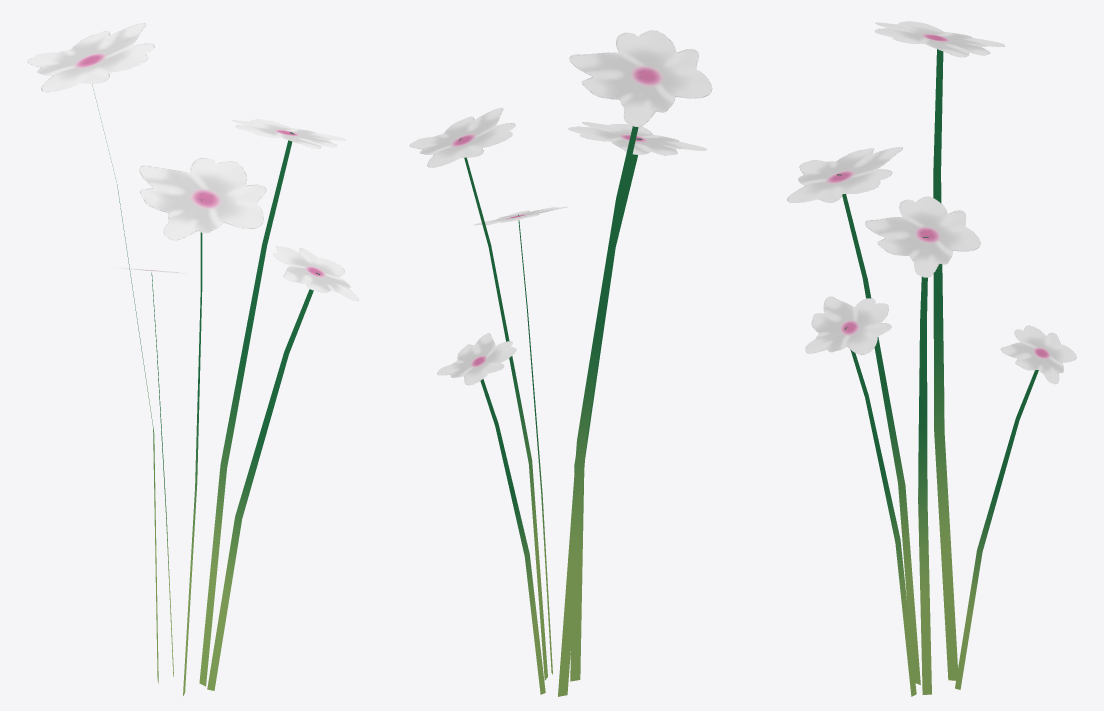
The model's file is SM_flowerpack_B_LOD1.FBX.
The picture shows the model from 3 angles, left to right: view 1: azimuth 30°, elevation 25°; view 2: azimuth 150°, elevation 25°; view 3: azimuth 270°, elevation 25°; orthographic projection. The views are drawn at different scales.
Visible parts, largest first — view 1: SM_flowerpack_B_LOD1; view 2: SM_flowerpack_B_LOD1; view 3: SM_flowerpack_B_LOD1.
Boxes of the visible parts, left/top/right/bottom form: SM_flowerpack_B_LOD1: left=27, top=23, right=358, bottom=695; SM_flowerpack_B_LOD1: left=409, top=30, right=712, bottom=696; SM_flowerpack_B_LOD1: left=787, top=21, right=1076, bottom=696.
Size of the model in its own units: 126 by 239 by 110.
2 materials, 2 textured.
